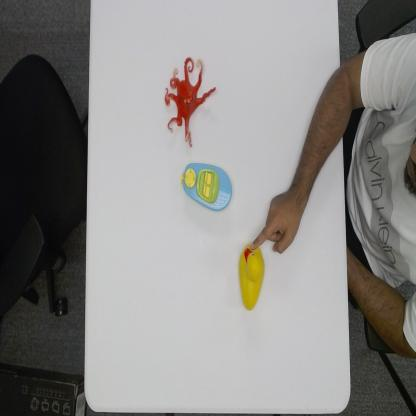Arm: (297, 44, 365, 186)
Boat: (178, 161, 234, 213)
Duck: (237, 238, 265, 313)
Hand: (249, 186, 304, 254)
Octopus: (163, 54, 217, 150)
